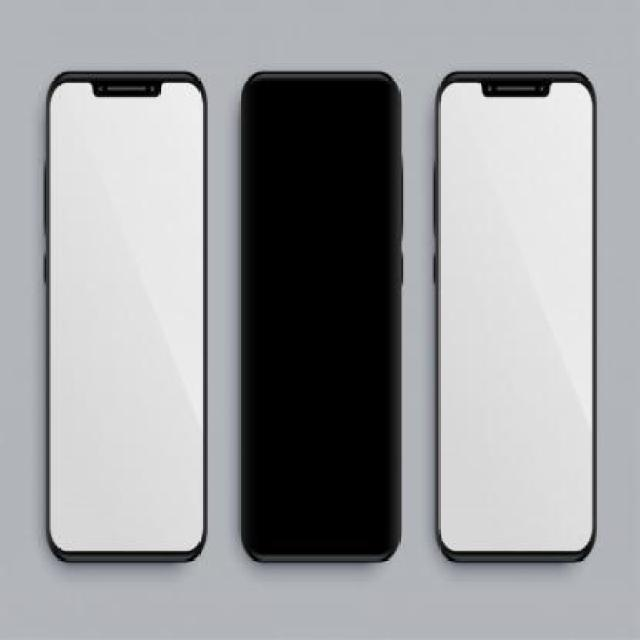phone: (238, 68, 404, 566), (46, 68, 209, 564), (436, 68, 598, 566)
